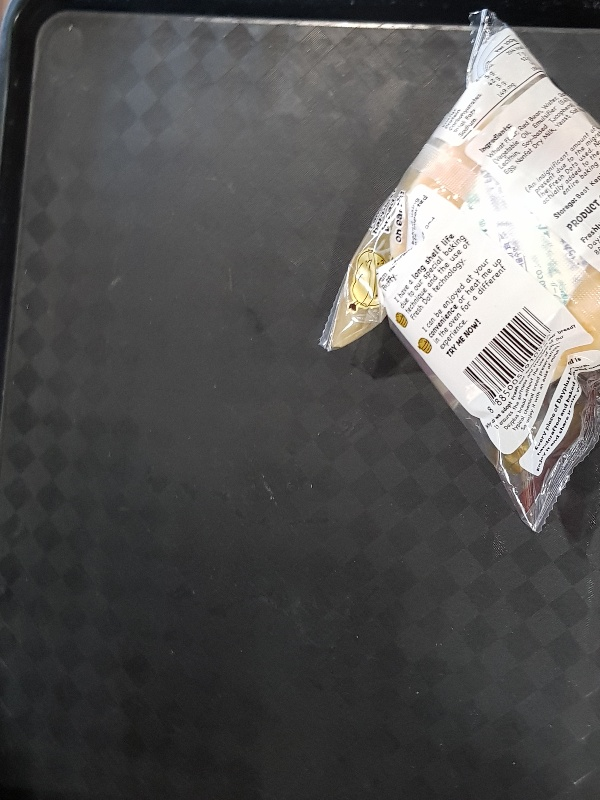Dayplus Red Bean: (318, 9, 600, 535)
